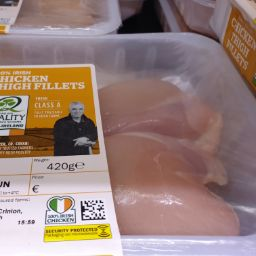Chicken Thigh Fillets: (113, 170, 252, 250), (99, 72, 220, 142), (108, 130, 231, 197)
